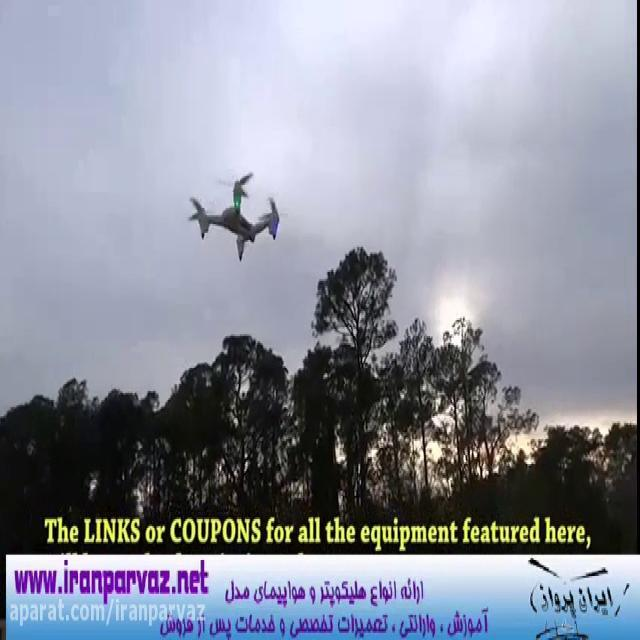drone: (184, 167, 292, 265)
